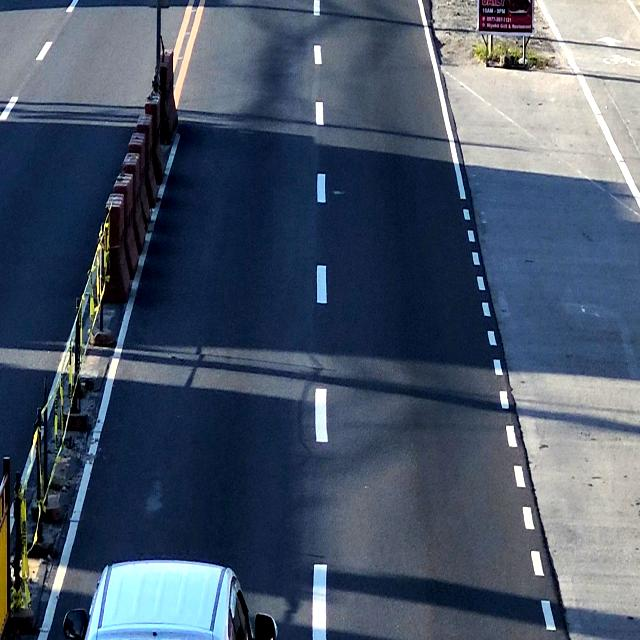Car: (82, 561, 262, 640)
